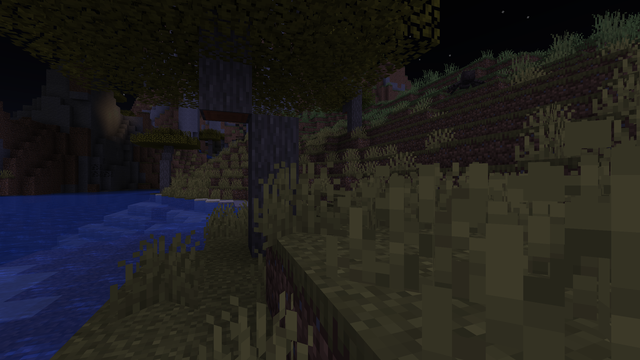araignees: (447, 68, 484, 93)
